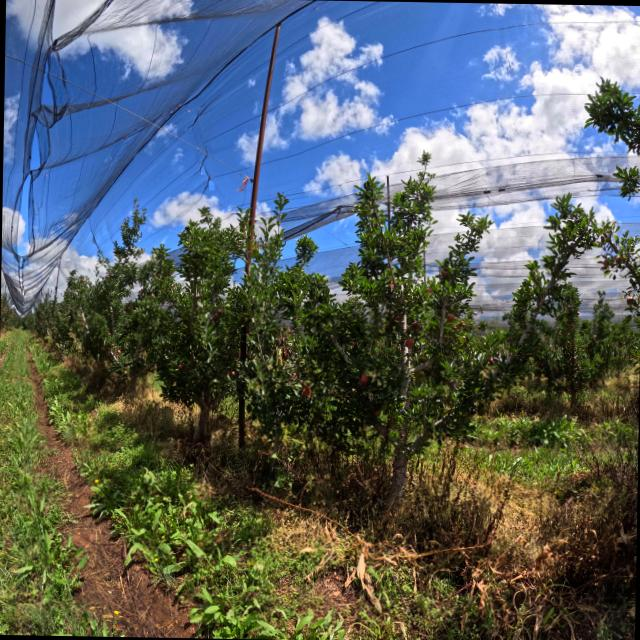-FireBlight-: (270, 327, 300, 380), (300, 383, 312, 401)
